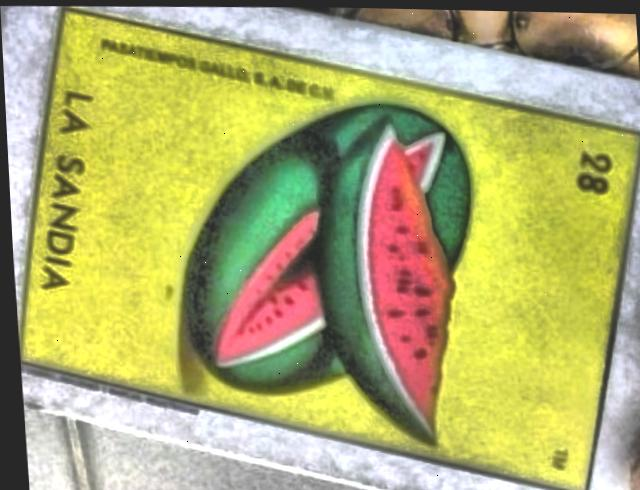La Sandia: (19, 10, 640, 490)
